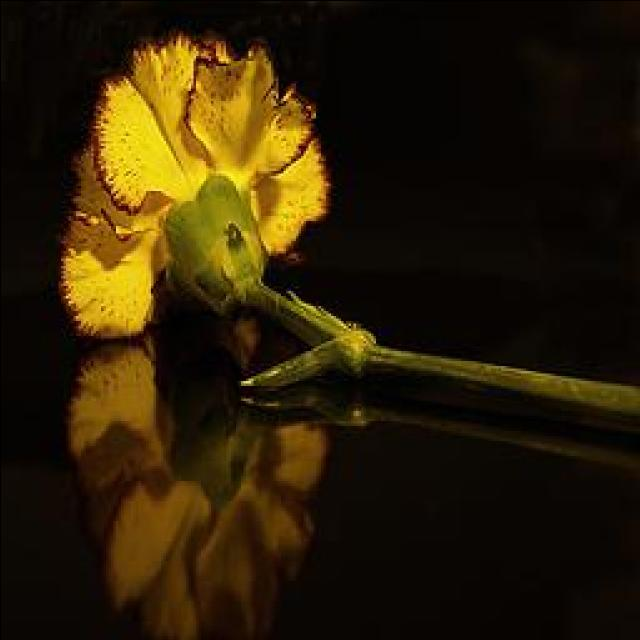carnation: (36, 32, 322, 350)
